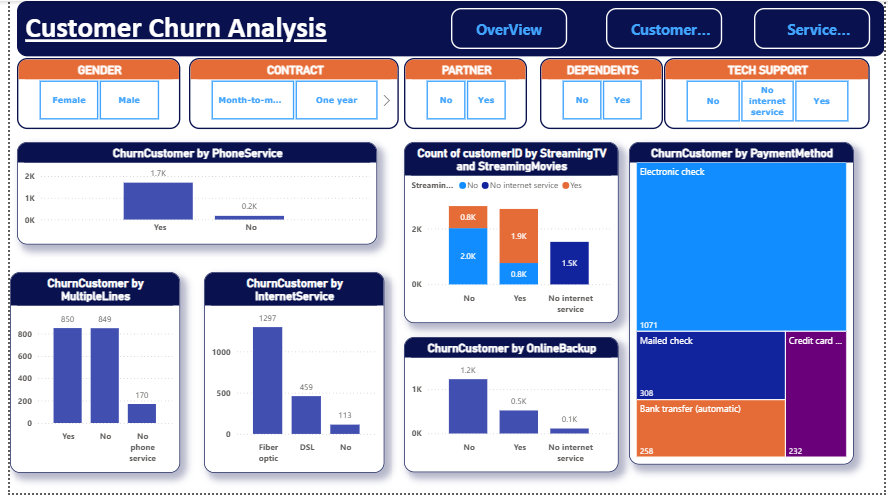

This screenshot's page, from the dashboard's own definition file:
{"tool":"powerbi","page":{"name":"Service Insights","canvas":[1280,720],"ordinal":2},"visuals":[{"type":"textbox","box":[10.1,0,1269.9,80.6],"z":0},{"type":"slicer","title":"GENDER","fields":{"Values":["Telco_Customer_Churn.gender"]},"box":[10.1,84,238.5,104.1],"z":7000},{"type":"slicer","title":"CONTRACT","fields":{"Values":["Telco_Customer_Churn.Contract"]},"box":[262,84,307.4,104.1],"z":8000},{"type":"slicer","title":"PARTNER","fields":{"Values":["Telco_Customer_Churn.Partner"]},"box":[576.2,84,179.7,104.1],"z":9000},{"type":"slicer","title":"DEPENDENTS","fields":{"Values":["Telco_Customer_Churn.Dependents"]},"box":[776.1,84,179.7,104.1],"z":10000},{"type":"slicer","title":"TECH SUPPORT","fields":{"Values":["Telco_Customer_Churn.TechSupport"]},"box":[957.5,84,300.7,104.1],"z":11000},{"type":"actionButton","box":[645,10.1,169.7,60.5],"z":11001},{"type":"actionButton","box":[1088.5,10.1,169.7,60.5],"z":11002},{"type":"actionButton","box":[871.8,10.1,169.7,60.5],"z":11003},{"type":"clusteredColumnChart","fields":{"Y":["Telco_Customer_Churn.ChurnCustomer"],"Category":["Telco_Customer_Churn.PhoneService"]},"box":[10.1,206.6,527.5,149.5],"z":11004},{"type":"clusteredColumnChart","fields":{"Category":["Telco_Customer_Churn.InternetService"],"Y":["Telco_Customer_Churn.ChurnCustomer"]},"box":[283.9,396.4,263.7,294],"z":11005},{"type":"columnChart","fields":{"Category":["Telco_Customer_Churn.MultipleLines"],"Y":["Telco_Customer_Churn.ChurnCustomer"]},"box":[0,396.4,248.6,294],"z":11006},{"type":"columnChart","fields":{"Category":["Telco_Customer_Churn.StreamingTV"],"Y":["CountNonNull(Telco_Customer_Churn.customerID)"],"Series":["Telco_Customer_Churn.StreamingMovies"]},"box":[576.2,206.6,314.1,265.4],"z":11007},{"type":"clusteredColumnChart","fields":{"Category":["Telco_Customer_Churn.OnlineBackup"],"Y":["Telco_Customer_Churn.ChurnCustomer"]},"box":[576.2,492.2,314.1,198.2],"z":11008},{"type":"treemap","fields":{"Values":["Telco_Customer_Churn.ChurnCustomer"],"Group":["Telco_Customer_Churn.PaymentMethod"]},"box":[905.4,206.6,329.2,472],"z":11009}]}

Visuals, with their boxes in screenshot pixels (x1, y1, x2, y2), scaled from the page's 1280x720 canvas onto the 888x497 screenshot:
textbox: <region>7, 0, 887, 56</region>
"GENDER" slicer: <region>7, 58, 172, 130</region>
"CONTRACT" slicer: <region>182, 58, 395, 130</region>
"PARTNER" slicer: <region>400, 58, 524, 130</region>
"DEPENDENTS" slicer: <region>538, 58, 663, 130</region>
"TECH SUPPORT" slicer: <region>664, 58, 873, 130</region>
actionButton: <region>447, 7, 565, 49</region>
actionButton: <region>755, 7, 873, 49</region>
actionButton: <region>605, 7, 723, 49</region>
clusteredColumnChart - Telco_Customer_Churn.ChurnCustomer x Telco_Customer_Churn.PhoneService: <region>7, 143, 373, 246</region>
clusteredColumnChart - Telco_Customer_Churn.InternetService x Telco_Customer_Churn.ChurnCustomer: <region>197, 274, 380, 477</region>
columnChart - Telco_Customer_Churn.MultipleLines x Telco_Customer_Churn.ChurnCustomer: <region>0, 274, 172, 477</region>
columnChart - Telco_Customer_Churn.StreamingTV x CountNonNull(Telco_Customer_Churn.customerID): <region>400, 143, 618, 326</region>
clusteredColumnChart - Telco_Customer_Churn.OnlineBackup x Telco_Customer_Churn.ChurnCustomer: <region>400, 340, 618, 477</region>
treemap - Telco_Customer_Churn.ChurnCustomer x Telco_Customer_Churn.PaymentMethod: <region>628, 143, 857, 468</region>
